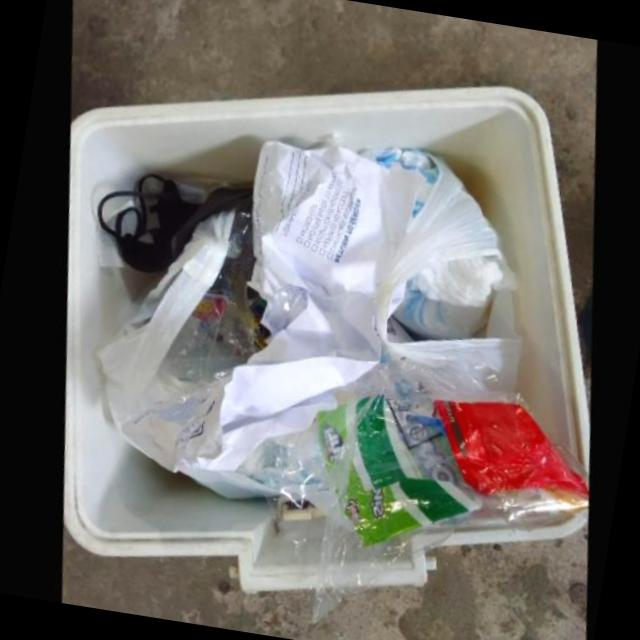giay: (186, 139, 423, 464), (366, 150, 517, 342)
goi_nhua_nho: (427, 397, 585, 505)
khau_trang: (94, 173, 251, 267)
tui_ni_long: (255, 360, 585, 619), (157, 207, 253, 382)
